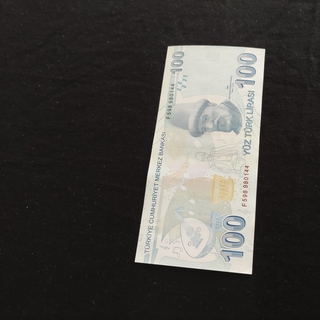100TLBack: (134, 44, 266, 275)
